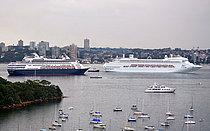Ship: (5, 50, 94, 79), (102, 53, 204, 78)
